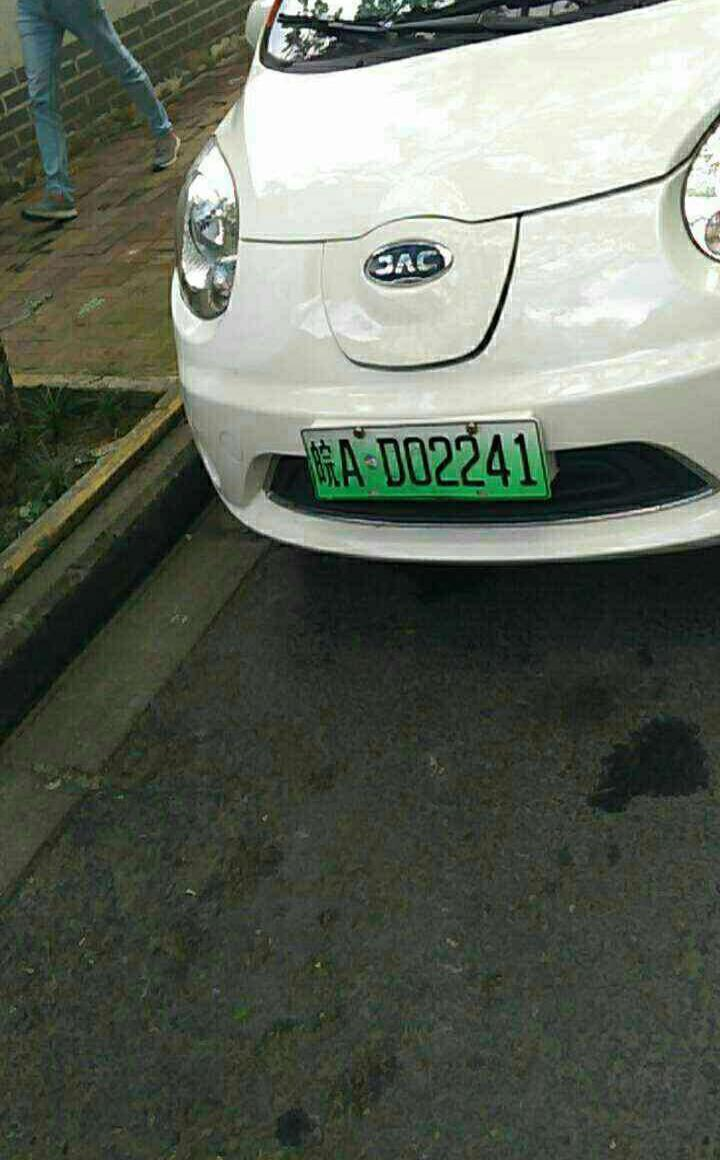car_id: (300, 422, 547, 499)
